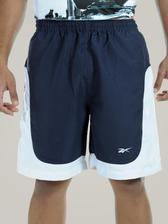clothoes: (17, 15, 166, 183)
